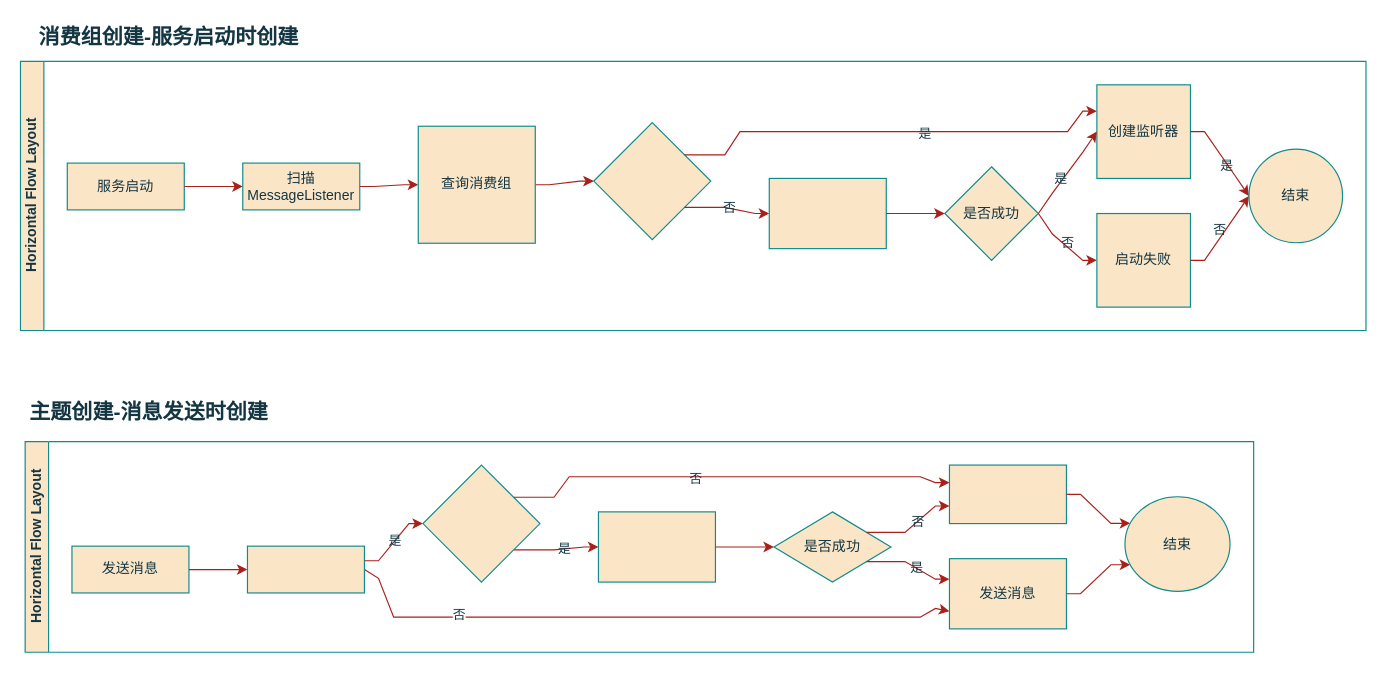
Some shapes in this 1386 by 673 pixel diagram are drawn without their labels. The centre of each missing label's shape, as x and y in pixels:
创建topic: the point at 656,546
创建消费组: the point at 827,213
抛出异常: the point at 1007,494
是否已创建: the point at 652,180
是否是topic不存在错误: the point at 481,523
是否有异常: the point at 305,569
